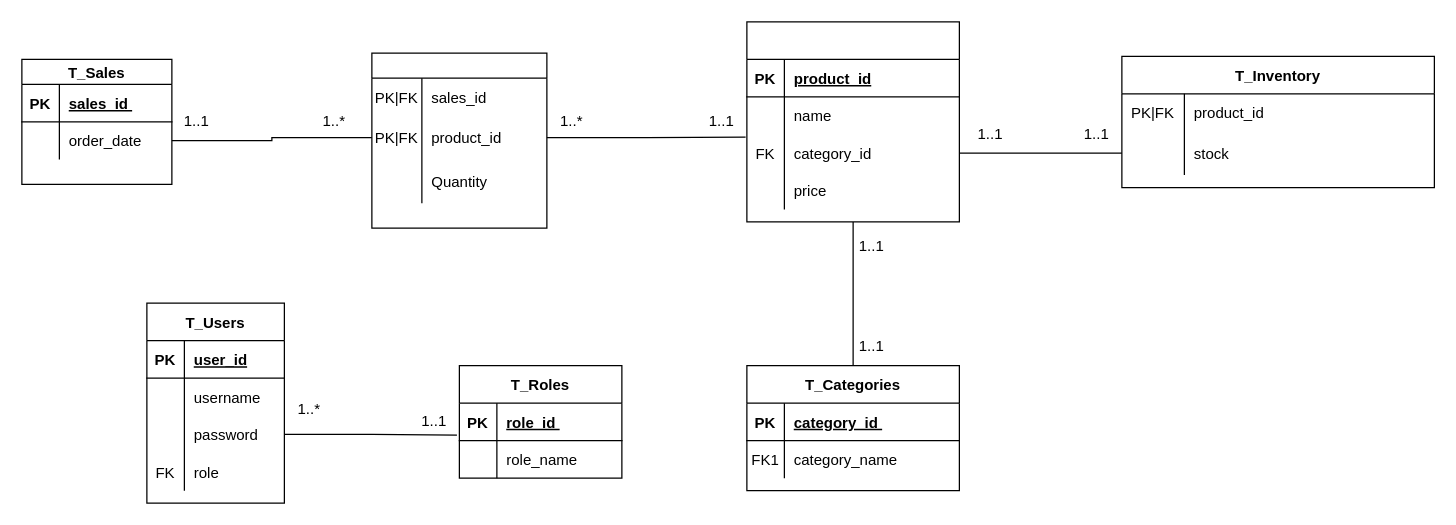
The diagram is 1456 pixels wide and 525 high, and some of its shapes have lost their labels. Here are the shapes that lost their labels. From the top down, the box of each, then its label:
(371, 52, 547, 228): T_SalesList
(746, 21, 959, 222): T_Products
